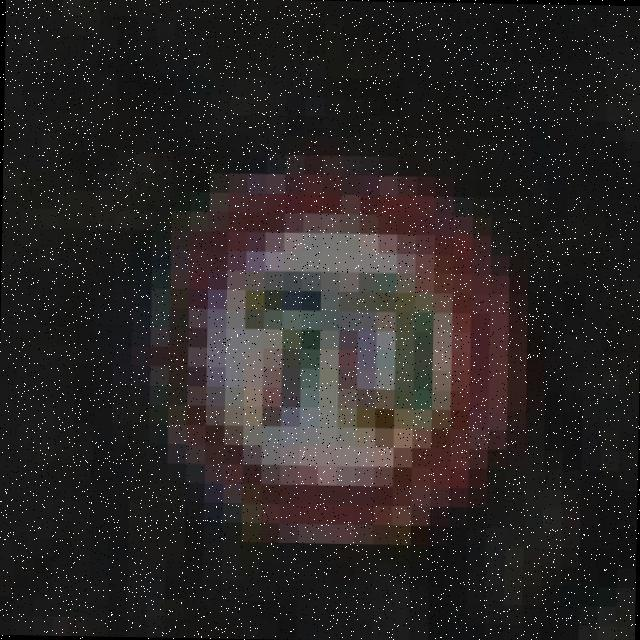Ograniczenie predkosci do 70: (158, 167, 511, 540)
